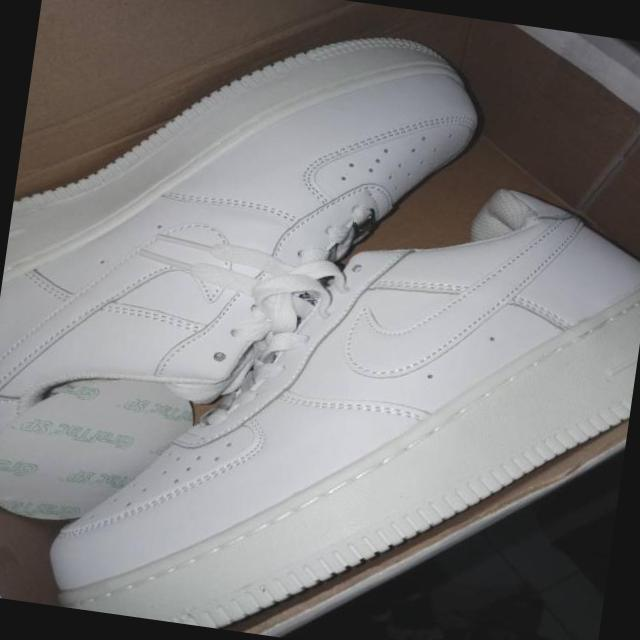nike_fake_airforce: (39, 119, 640, 640), (0, 0, 483, 497)
